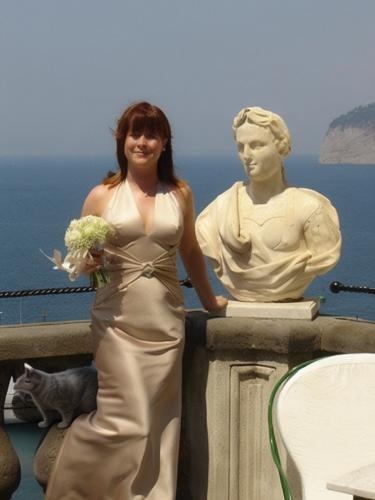cat: (5, 368, 98, 428)
person: (60, 101, 228, 499)
person/hand: (82, 249, 105, 275), (214, 296, 228, 310)
person/head: (121, 103, 168, 167)
